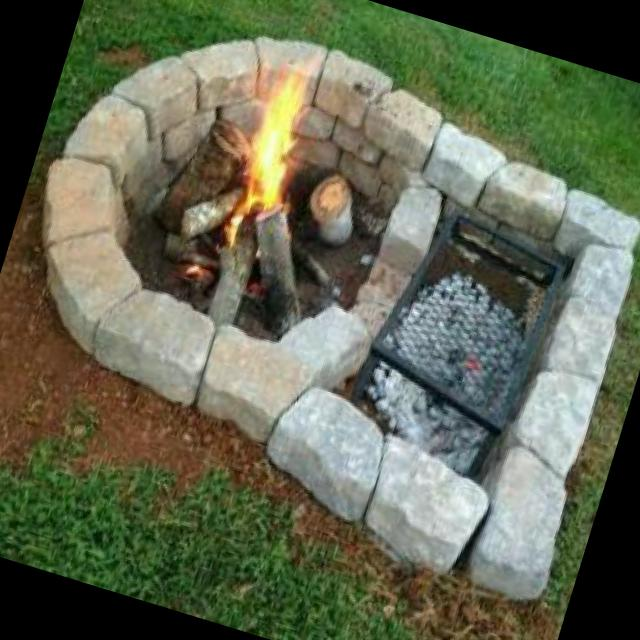fire: (216, 38, 354, 256)
